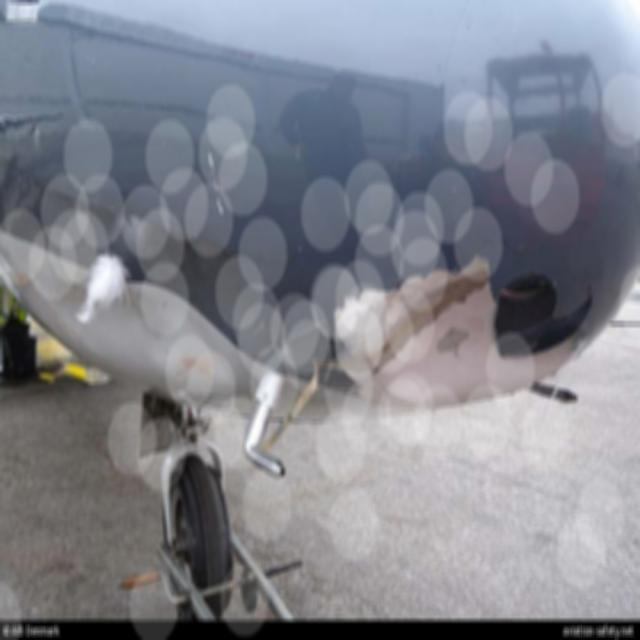crack: (485, 235, 529, 263)
dent: (138, 295, 236, 392)
